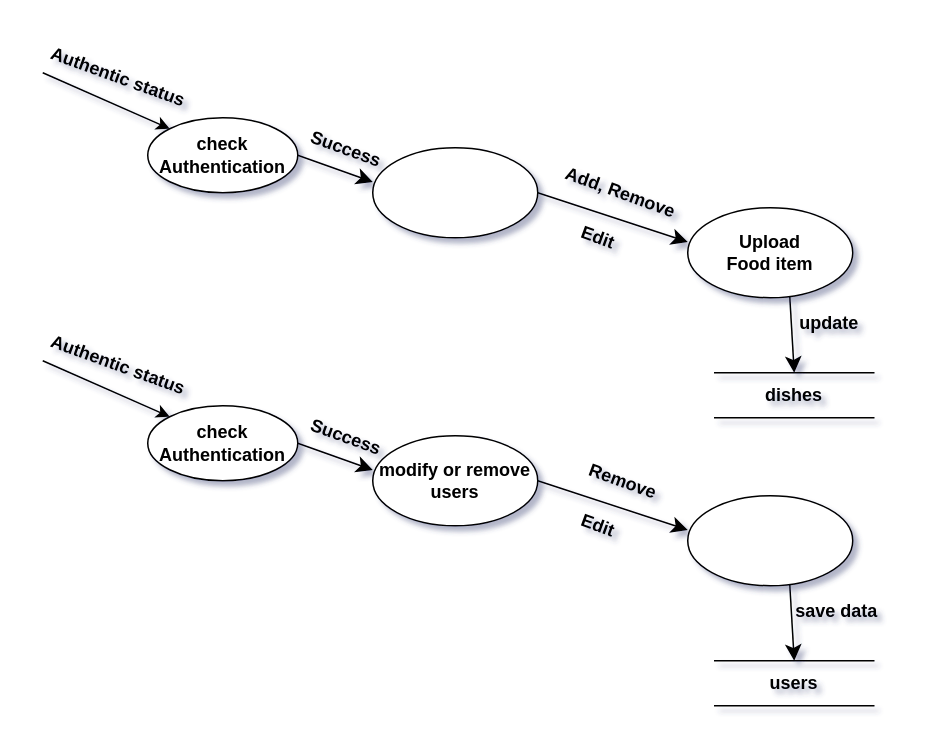
The diagram is 932 pixels wide and 743 high, and some of its shapes have lost their labels. The box of each missing label's shape, as (x1, y1, x2, y2) in pixels:
modify or remove food item: (371, 146, 538, 238)
update users: (686, 494, 853, 586)
